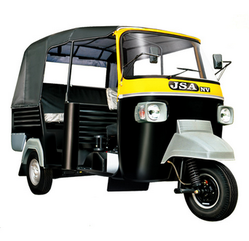auto: (8, 29, 244, 229)
